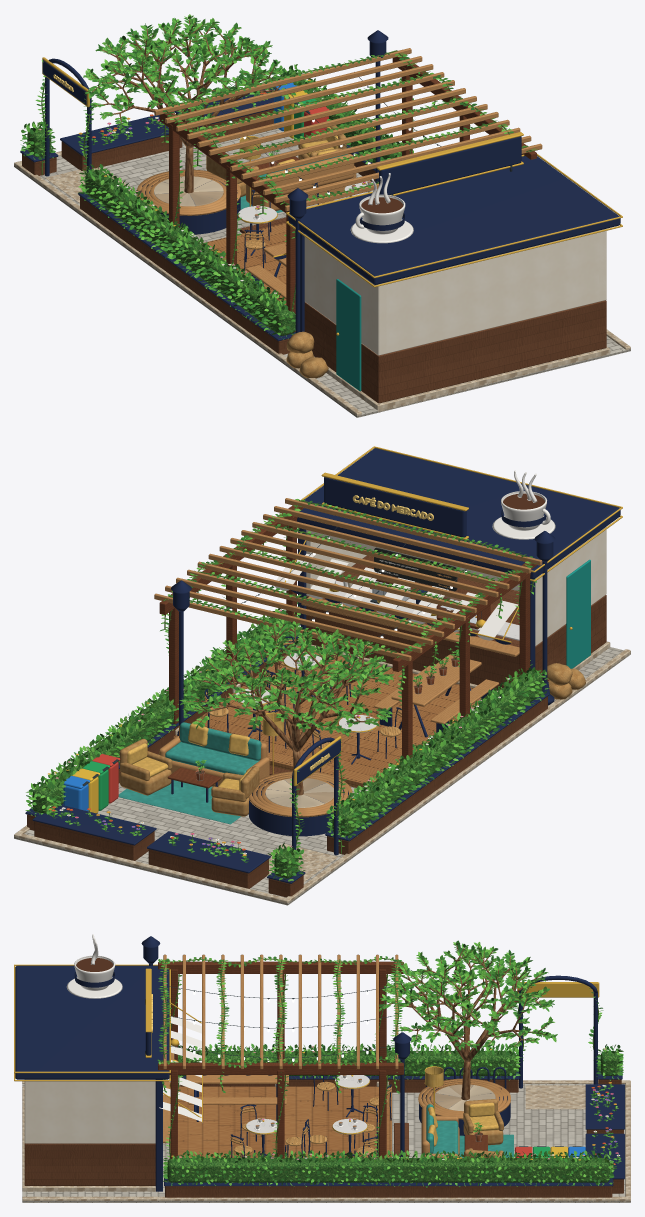
The model's file is plaza-cafe.fbx.
3 renders of one model, top to bottom at view 1: azimuth 30°, elevation 25°; view 2: azimuth 150°, elevation 25°; view 3: azimuth 270°, elevation 25°, orthographic. The views are drawn at different scales.
Visible parts, largest first — view 1: Body; view 2: Body; view 3: Body.
Part boxes in pixels (x1,y1,x2,y2): Body: (14,14,630,417); Body: (14,446,630,905); Body: (14,934,630,1202).
Size of the model in its own units: 6.17 by 4.13 by 13.17.
